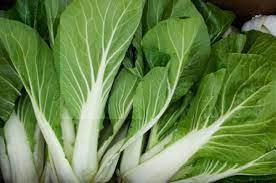Healthy-Pechay: (9, 5, 272, 174)
